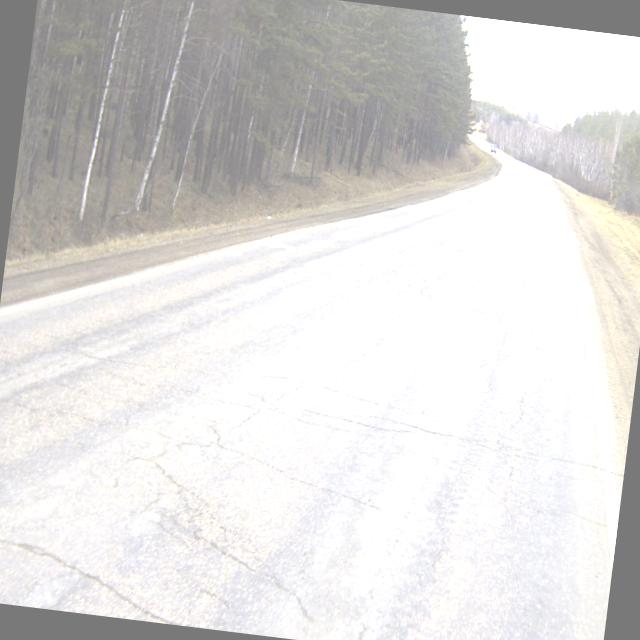road: (0, 151, 619, 640), (471, 132, 490, 150)
